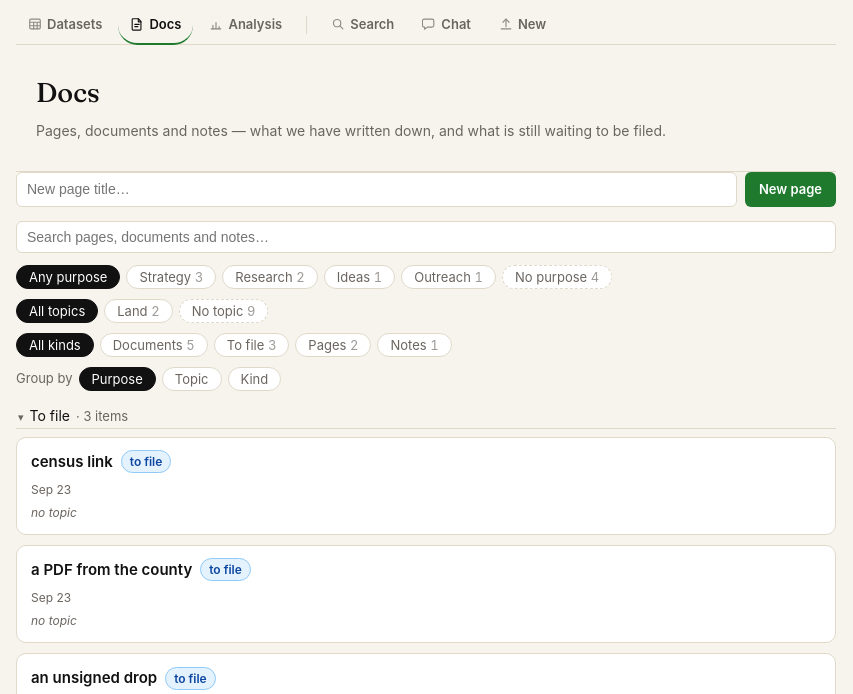
Test case: starting a page (P6-5, from the retired pages index) › refuses a title with nothing to make a name from
Type "!!! ???" into the field with test id "new-page-title" at (376, 189), box [16, 172, 737, 206]
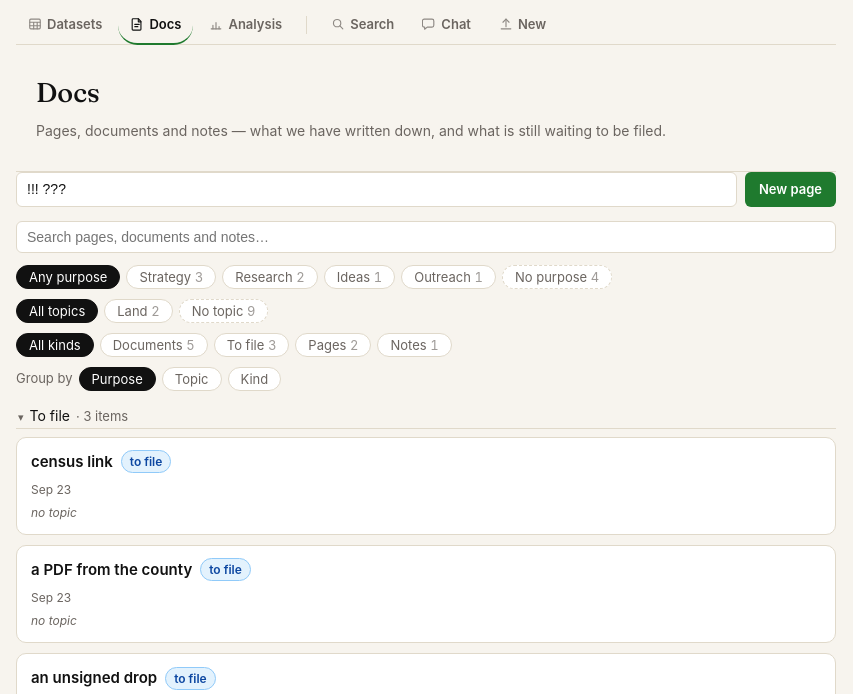
Submit the form, box [16, 172, 836, 206]
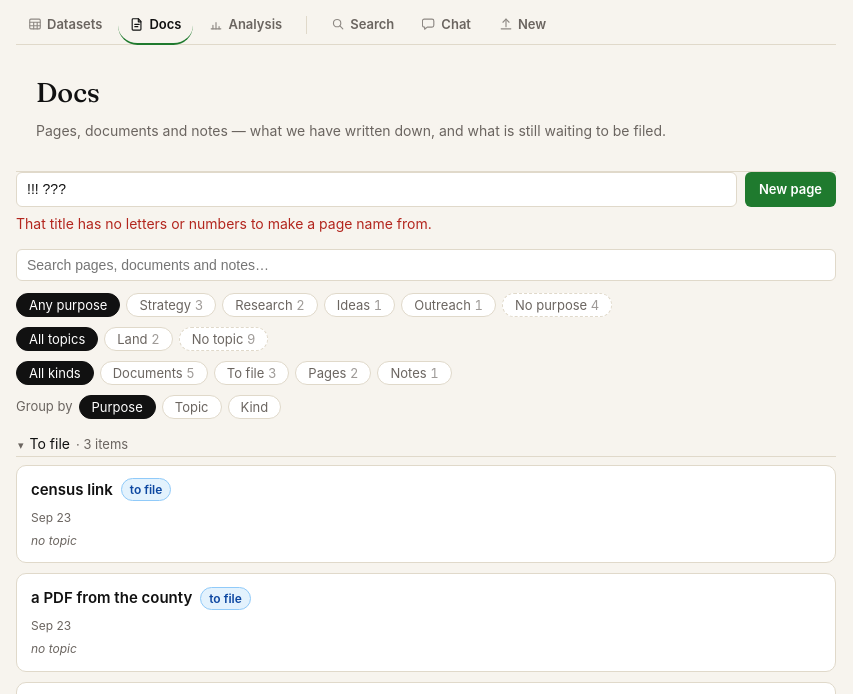
Result: the text with test id "new-page-error" shows "no letters or numbers" at [16, 214, 432, 232]
